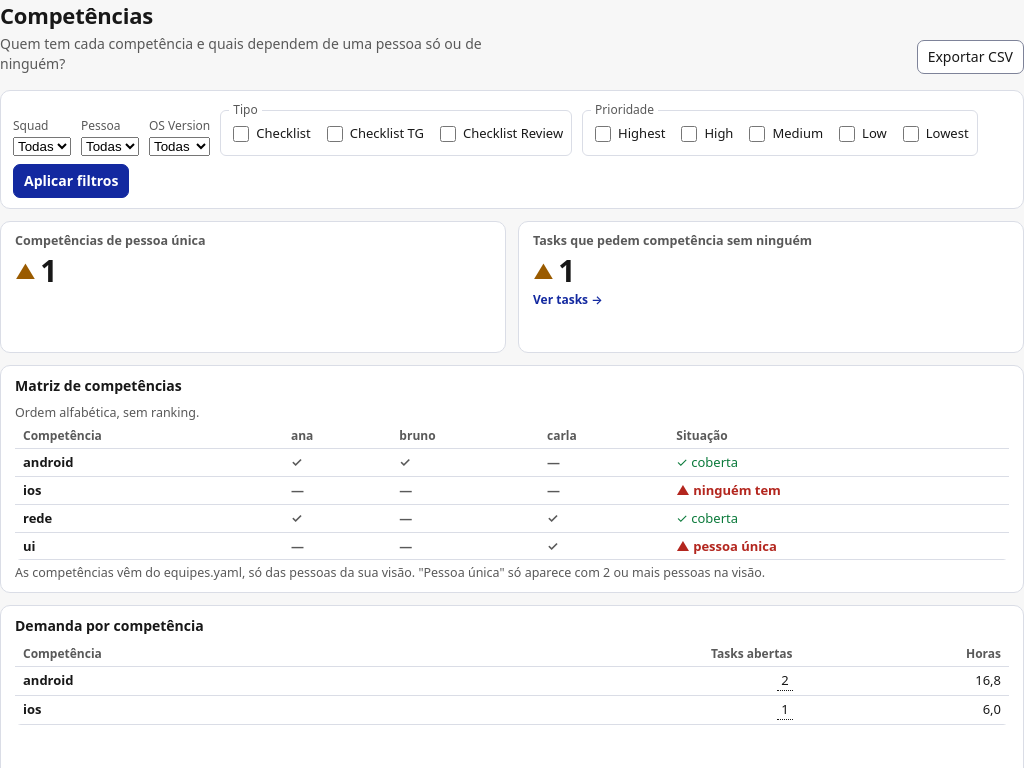
tela Matriz de competências › demandaPorCompetenciaAbreAGavetaComMesmoTamanho
Expected: the row "android" shows "16,8", [975,671,1001,689]
Click the button named "android Tasks abertas: 2".
click(785, 681)  # box [777,671,792,691]
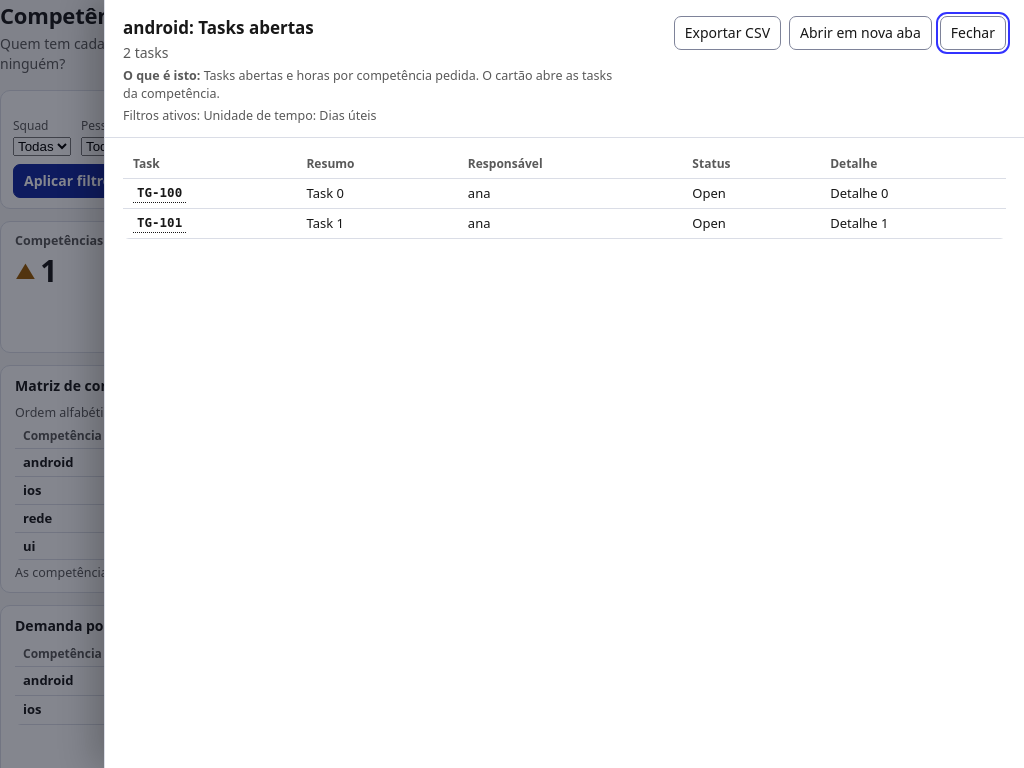
Expected: the text "2 tasks" is shown, [123,43,168,62]
